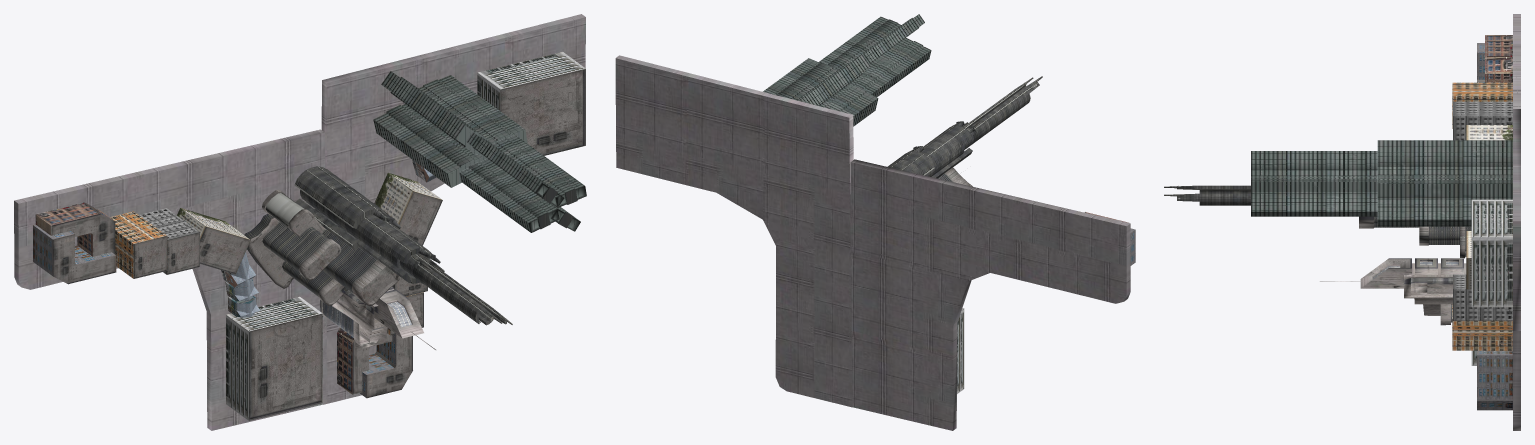
File: building_one.obj
3 renders of one model, left to right at view 1: azimuth 30°, elevation 25°; view 2: azimuth 150°, elevation 25°; view 3: azimuth 270°, elevation 25°, orthographic. The views are drawn at different scales.
Parts seen in each view (by area): view 1: city_mesh01; view 2: city_mesh01; view 3: city_mesh01.
Part boxes in pixels (bbox=[...]): city_mesh01: bbox=[14, 14, 586, 430]; city_mesh01: bbox=[615, 14, 1135, 430]; city_mesh01: bbox=[1164, 14, 1520, 430].
Bounding box in the file's own units: 282 × 154 × 170.
Materials: 3 (3 with a texture image).
